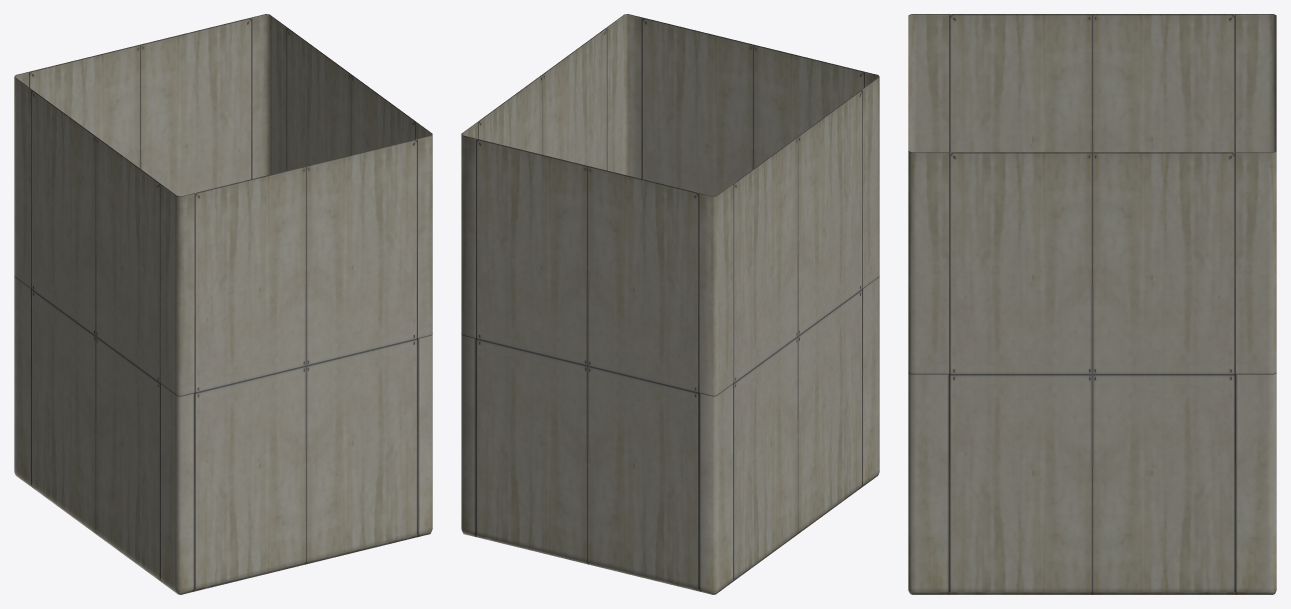
Rendered from 02_06_ark_room_central_hub.dae.
The picture shows the model from 3 angles, left to right: view 1: azimuth 30°, elevation 25°; view 2: azimuth 150°, elevation 25°; view 3: azimuth 270°, elevation 25°; orthographic projection. The views are drawn at different scales.
Visible parts, largest first — view 1: central_hub; view 2: central_hub; view 3: central_hub.
Part boxes in pixels (x1,y1,x2,y2): central_hub: (14, 14, 432, 594); central_hub: (461, 14, 879, 594); central_hub: (908, 14, 1276, 594).
Bounding box in the file's own units: 4 × 6 × 4.5.
